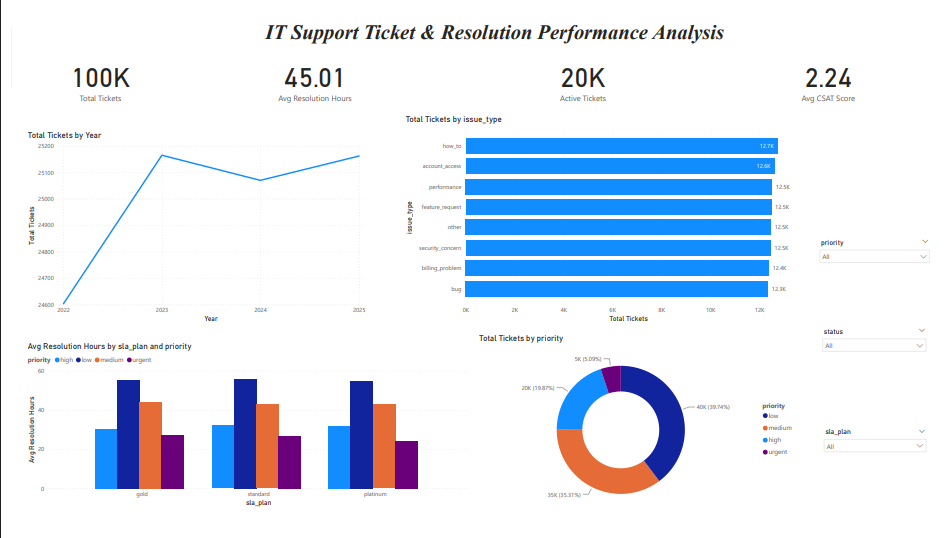

What the dashboard file says about the page in this screenshot:
{"tool":"powerbi","page":{"name":"IT Support Ticket & Resolution Performance Analysis","canvas":[1920,1080],"ordinal":0},"visuals":[{"type":"card","fields":{"Values":["synthetic_it_support_tickets.Total Tickets"]},"box":[29.3,89.7,313,111.7],"z":0},{"type":"card","fields":{"Values":["synthetic_it_support_tickets.Avg Resolution Hours"]},"box":[433.8,89.7,395.4,111.7],"z":1},{"type":"card","fields":{"Values":["synthetic_it_support_tickets.Active Tickets"]},"box":[983,89.7,411.9,111.7],"z":2},{"type":"card","fields":{"Values":["synthetic_it_support_tickets.Avg CSAT Score"]},"box":[1479.1,89.7,441.2,111.7],"z":3},{"type":"lineChart","fields":{"Category":["synthetic_it_support_tickets.created_at.Variation.Date Hierarchy.Year","synthetic_it_support_tickets.created_at.Variation.Date Hierarchy.Quarter","synthetic_it_support_tickets.created_at.Variation.Date Hierarchy.Month","synthetic_it_support_tickets.created_at.Variation.Date Hierarchy.Day"],"Y":["synthetic_it_support_tickets.Total Tickets"]},"box":[29.3,250.8,712.1,406.4],"z":4},{"type":"clusteredBarChart","fields":{"Category":["synthetic_it_support_tickets.issue_type","synthetic_it_support_tickets.product_area"],"Y":["synthetic_it_support_tickets.Total Tickets"]},"box":[814.6,217.8,823.7,439.3],"z":5},{"type":"donutChart","fields":{"Category":["synthetic_it_support_tickets.priority"],"Y":["synthetic_it_support_tickets.Total Tickets"]},"box":[968.3,673.6,670,382.6],"z":6},{"type":"clusteredColumnChart","fields":{"Category":["synthetic_it_support_tickets.sla_plan"],"Y":["synthetic_it_support_tickets.Avg Resolution Hours"],"Series":["synthetic_it_support_tickets.priority"]},"box":[29.3,690.1,926.2,349.6],"z":7},{"type":"slicer","fields":{"Values":["synthetic_it_support_tickets.priority"]},"box":[1671.3,472.3,248.9,126.3],"z":8},{"type":"slicer","fields":{"Values":["synthetic_it_support_tickets.status"]},"box":[1676.7,657.2,236.1,162.9],"z":9},{"type":"slicer","fields":{"Values":["synthetic_it_support_tickets.sla_plan"]},"box":[1680.4,865.8,232.5,155.6],"z":10},{"type":"textbox","box":[459.5,0,1092.8,89.7],"z":11}]}

Visuals, with their boxes in screenshot pixels (x1, y1, x2, y2), scaled from the page's 1920x1080 canvas onto the 945x538 screenshot:
card - synthetic_it_support_tickets.Total Tickets: 14/45/168/100
card - synthetic_it_support_tickets.Avg Resolution Hours: 214/45/408/100
card - synthetic_it_support_tickets.Active Tickets: 484/45/687/100
card - synthetic_it_support_tickets.Avg CSAT Score: 728/45/944/100
lineChart - synthetic_it_support_tickets.created_at.Variation.Date Hierarchy.Year x synthetic_it_support_tickets.created_at.Variation.Date Hierarchy.Quarter: 14/125/365/327
clusteredBarChart - synthetic_it_support_tickets.issue_type x synthetic_it_support_tickets.product_area: 401/108/806/327
donutChart - synthetic_it_support_tickets.priority x synthetic_it_support_tickets.Total Tickets: 477/336/806/526
clusteredColumnChart - synthetic_it_support_tickets.sla_plan x synthetic_it_support_tickets.Avg Resolution Hours: 14/344/470/518
slicer - synthetic_it_support_tickets.priority: 823/235/944/298
slicer - synthetic_it_support_tickets.status: 825/327/941/409
slicer - synthetic_it_support_tickets.sla_plan: 827/431/942/509
textbox: 226/0/764/45
